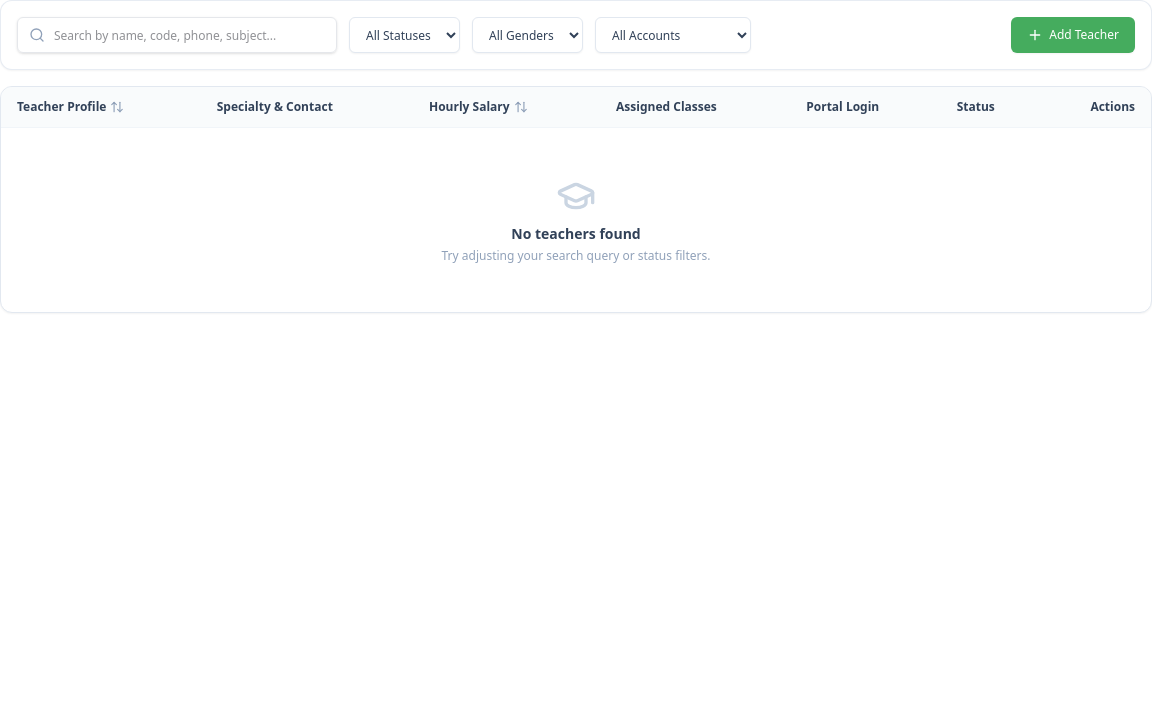
TeacherListTable › opens create teacher modal when clicking Add Teacher
The width and height of the screenshot is (1152, 720).
Click the button "Add Teacher". click: click(1073, 35)
box: [1011,17,1135,53]
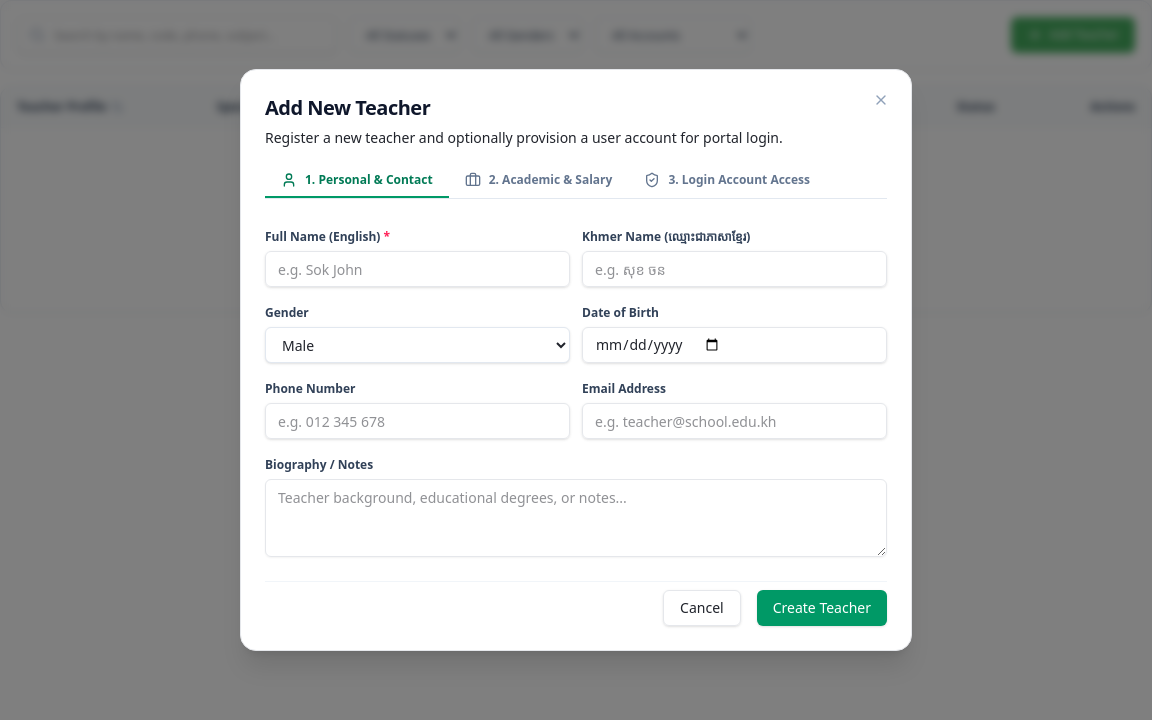
Result: the heading "Add New Teacher" is shown at [265,94,430,121]
